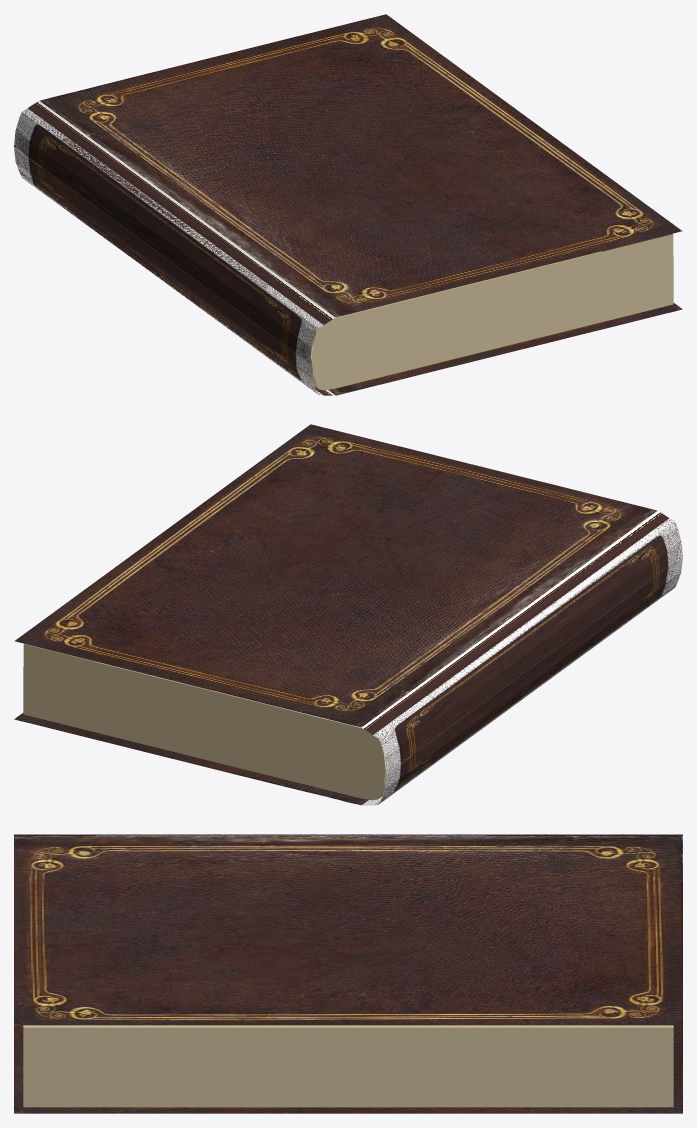
File: llibre.glb
3 renders of one model, top to bottom at view 1: azimuth 30°, elevation 25°; view 2: azimuth 150°, elevation 25°; view 3: azimuth 270°, elevation 25°, orthographic. The views are drawn at different scales.
Parts seen in each view (by area): view 1: Cub.002, Cub; view 2: Cub.002, Cub; view 3: Cub.002, Cub.
Boxes of the visible parts, box(x1,y1,x2,y2) form: Cub.002: box(14, 14, 682, 395); Cub: box(24, 154, 673, 390); Cub.002: box(14, 424, 682, 805); Cub: box(23, 564, 672, 800); Cub.002: box(14, 834, 682, 1113); Cub: box(23, 1025, 673, 1107).
Size of the model in its own units: 1.49 by 0.3063 by 2.06.
Materials: 2 (1 with a texture image).
